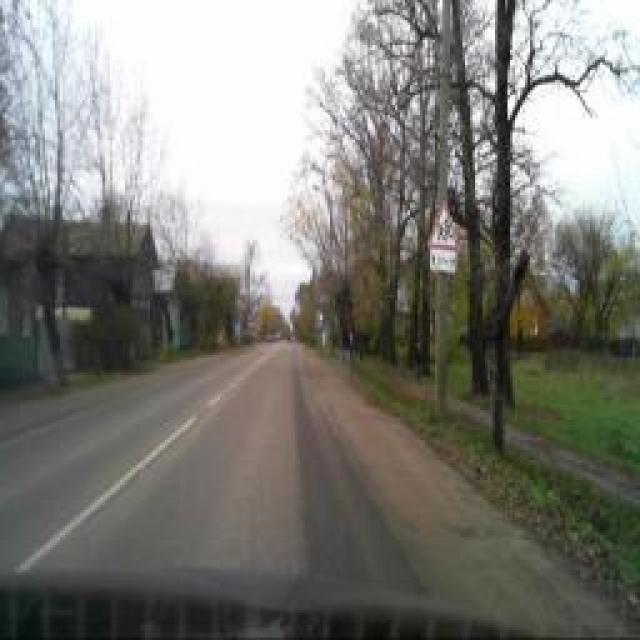sign: (426, 200, 459, 245)
